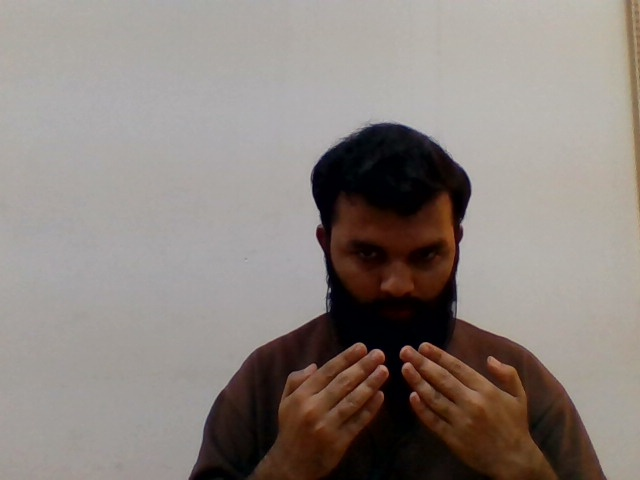Thank You: (184, 193, 604, 480)
